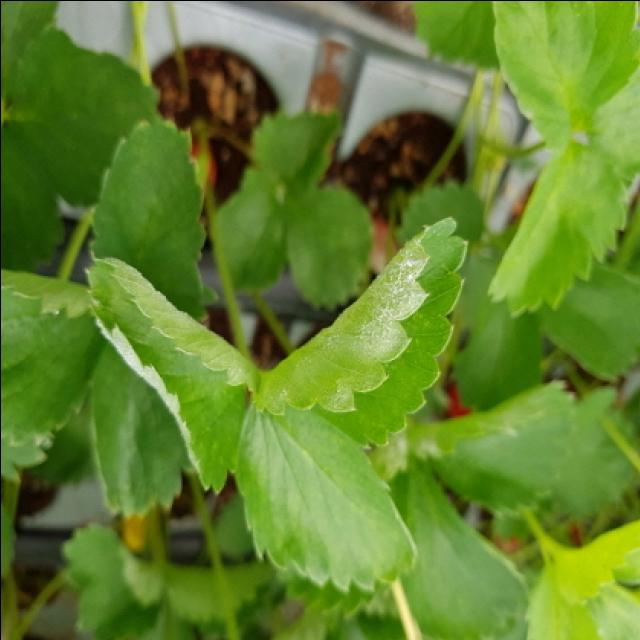Powdery Mildew Leaf: (255, 215, 467, 449), (82, 257, 260, 495)
